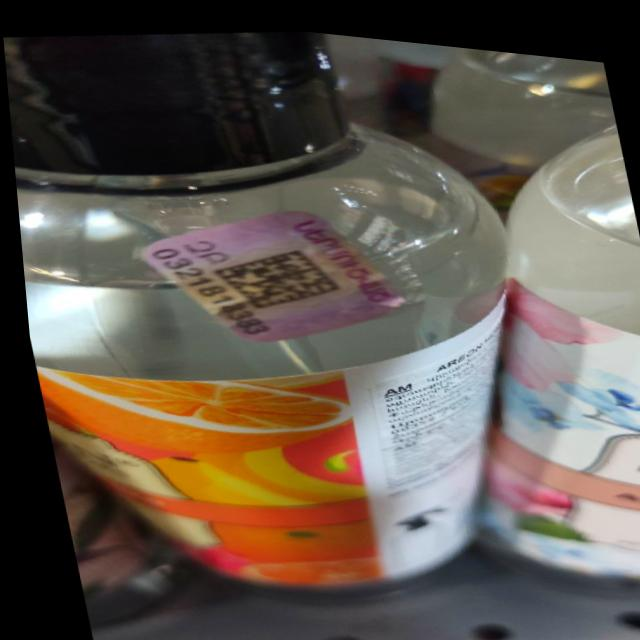datamatrix: (205, 232, 346, 318)
